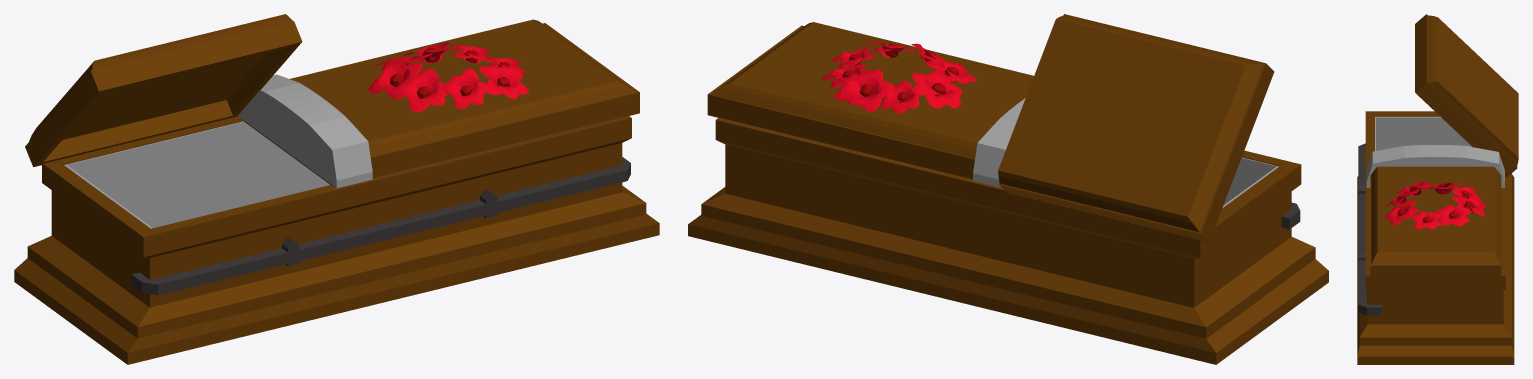
Rendered from Coffin.fbx.
The picture shows the model from 3 angles, left to right: view 1: azimuth 30°, elevation 25°; view 2: azimuth 150°, elevation 25°; view 3: azimuth 270°, elevation 25°; orthographic projection. The views are drawn at different scales.
Visible parts, largest first — view 1: Coffin, CoverDown, CoverUp, Upholstery, Handle, Ribbon, Flowers; view 2: Coffin, CoverUp, CoverDown, Flowers, Ribbon, Upholstery; view 3: Coffin, CoverDown, CoverUp, Ribbon, Flowers, Upholstery, Handle.
Part boxes in pixels (x1,y1,x2,y2): Coffin: (14,115,659,364); CoverDown: (240,19,639,187); CoverUp: (25,14,302,167); Upholstery: (64,121,329,228); Handle: (131,157,630,295); Ribbon: (238,74,372,188); Flowers: (368,42,529,112); Coffin: (688,117,1328,364); CoverUp: (998,14,1274,242); CoverDown: (707,22,1033,179); Flowers: (822,41,976,113); Ribbon: (973,98,1025,187); Upholstery: (1222,157,1278,207); Coffin: (1357,111,1514,364); CoverDown: (1370,166,1501,280); CoverUp: (1415,14,1518,177); Ribbon: (1366,145,1504,187); Flowers: (1384,181,1486,228); Upholstery: (1375,116,1471,150); Handle: (1358,143,1381,315).
Size of the model in its own units: 549 by 252 by 209.
